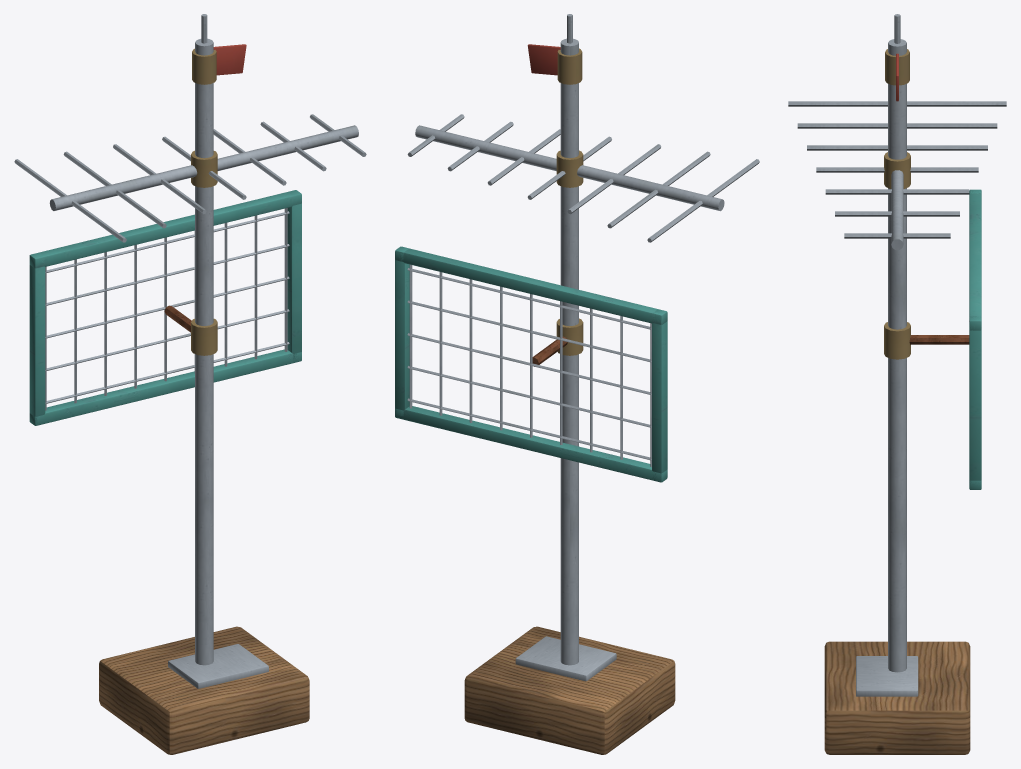
File: reflector_antenna.glb
3 renders of one model, left to right at view 1: azimuth 30°, elevation 25°; view 2: azimuth 150°, elevation 25°; view 3: azimuth 270°, elevation 25°, orthographic.
Parts seen in each view (by area): view 1: ReflectorAntennaBody; view 2: ReflectorAntennaBody; view 3: ReflectorAntennaBody.
Boxes of the visible parts, x1,y1,x2,y2 form: ReflectorAntennaBody: (14, 14, 366, 754); ReflectorAntennaBody: (395, 14, 759, 754); ReflectorAntennaBody: (788, 14, 1006, 754).
Bounding box in the file's own units: 0.68 × 1.5 × 0.42.
6 materials, 6 textured.
